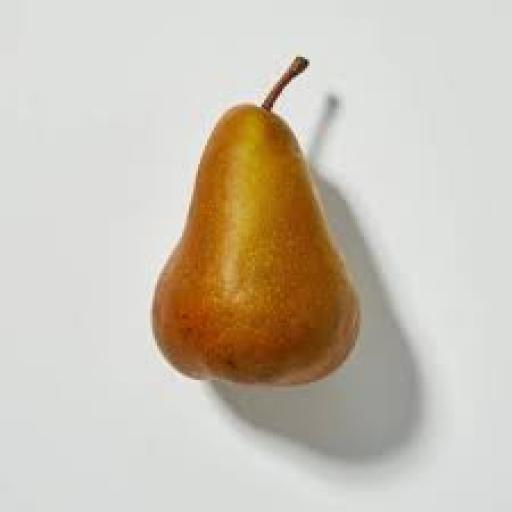Pear: (153, 57, 359, 384)
